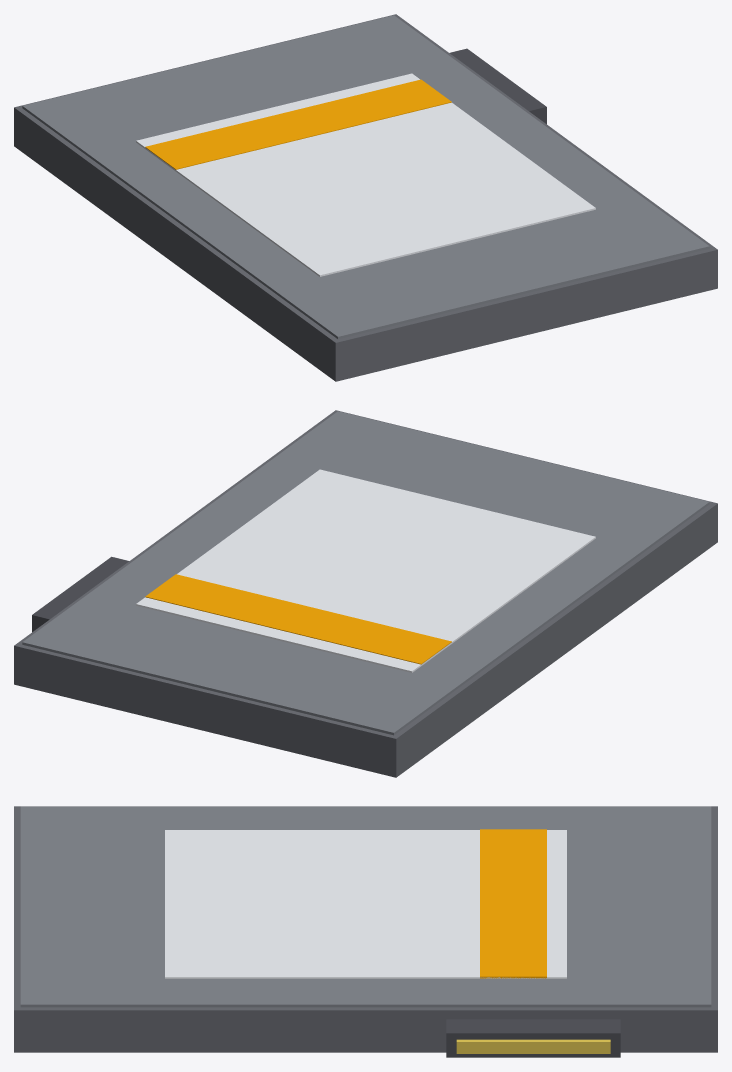
File: ssd.glb
3 views of the same model, one above another, from view 1: azimuth 30°, elevation 25°; view 2: azimuth 150°, elevation 25°; view 3: azimuth 270°, elevation 25° (orthographic). The views are drawn at different scales.
Parts seen in each view (by area): view 1: c3b3f47, cdfe6f2, c26282e, cff6a00, c15161a; view 2: c3b3f47, cdfe6f2, c26282e, cff6a00, c15161a; view 3: c3b3f47, cdfe6f2, c26282e, cff6a00, c15161a, cd4a017.
Part boxes in pixels (left/top/right/bottom): c3b3f47: left=22, top=15, right=709, bottom=339; cdfe6f2: left=136, top=73, right=595, bottom=276; c26282e: left=14, top=14, right=717, bottom=381; cff6a00: left=145, top=79, right=451, bottom=169; c15161a: left=450, top=48, right=546, bottom=124; c3b3f47: left=22, top=411, right=709, bottom=735; cdfe6f2: left=136, top=469, right=595, bottom=672; c26282e: left=14, top=410, right=717, bottom=777; cff6a00: left=145, top=574, right=451, bottom=664; c15161a: left=32, top=556, right=128, bottom=631; c3b3f47: left=20, top=806, right=711, bottom=1007; cdfe6f2: left=165, top=830, right=566, bottom=978; c26282e: left=14, top=806, right=717, bottom=1052; cff6a00: left=480, top=829, right=546, bottom=978; c15161a: left=446, top=1019, right=620, bottom=1057; cd4a017: left=456, top=1039, right=610, bottom=1053.
Bounding box in the file's own units: 77.8 × 7.88 × 105.
